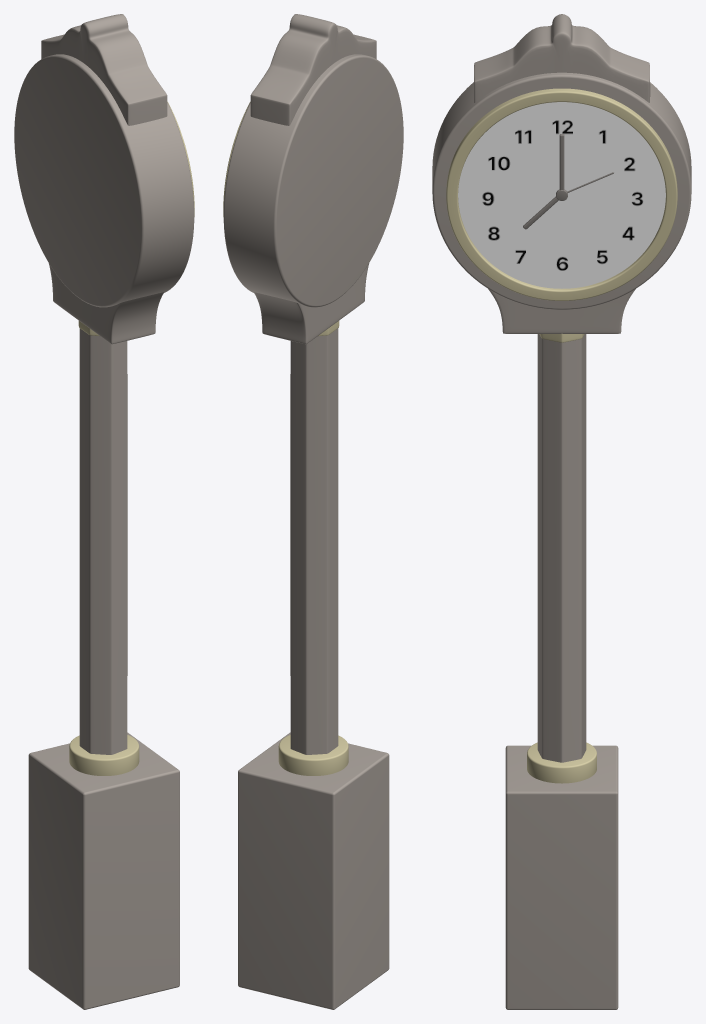
File: clock.glb
3 renders of one model, left to right at view 1: azimuth 30°, elevation 25°; view 2: azimuth 150°, elevation 25°; view 3: azimuth 270°, elevation 25°, orthographic.
Visible parts, largest first — view 1: Subdivision_Surface_2; view 2: Subdivision_Surface_2; view 3: Subdivision_Surface_2.
Part boxes in pixels (x1,y1,x2,y2): Subdivision_Surface_2: (14,14,194,1009); Subdivision_Surface_2: (223,14,403,1009); Subdivision_Surface_2: (432,14,691,1009).
Size of the model in its own units: 0.7 by 6.63 by 1.61.
Materials: 4 (1 with a texture image).
